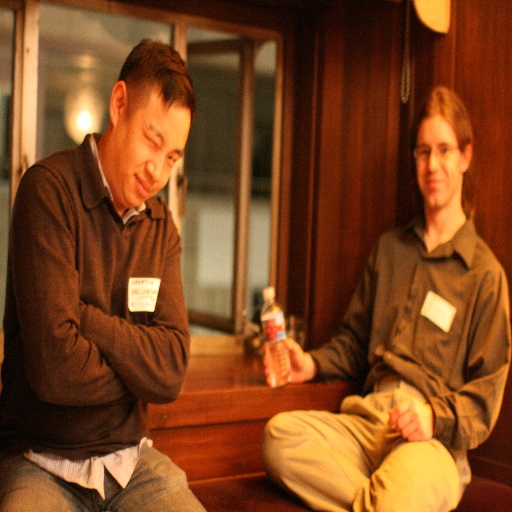hand: (392, 396, 440, 455), (263, 336, 310, 385)
